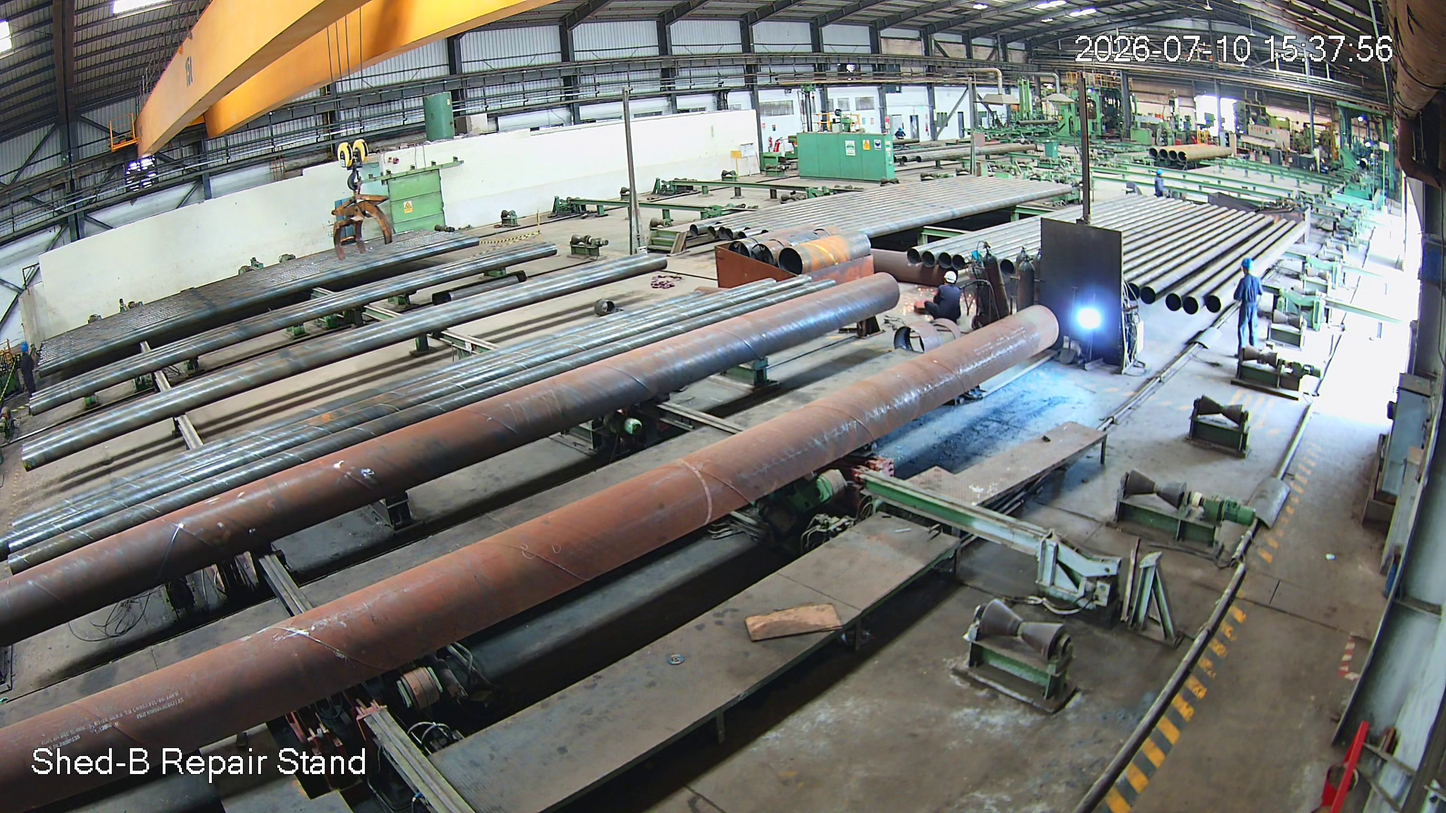Helmet: (940, 271, 964, 296), (1240, 252, 1258, 282)
Person: (1235, 255, 1269, 359), (922, 272, 964, 326)
